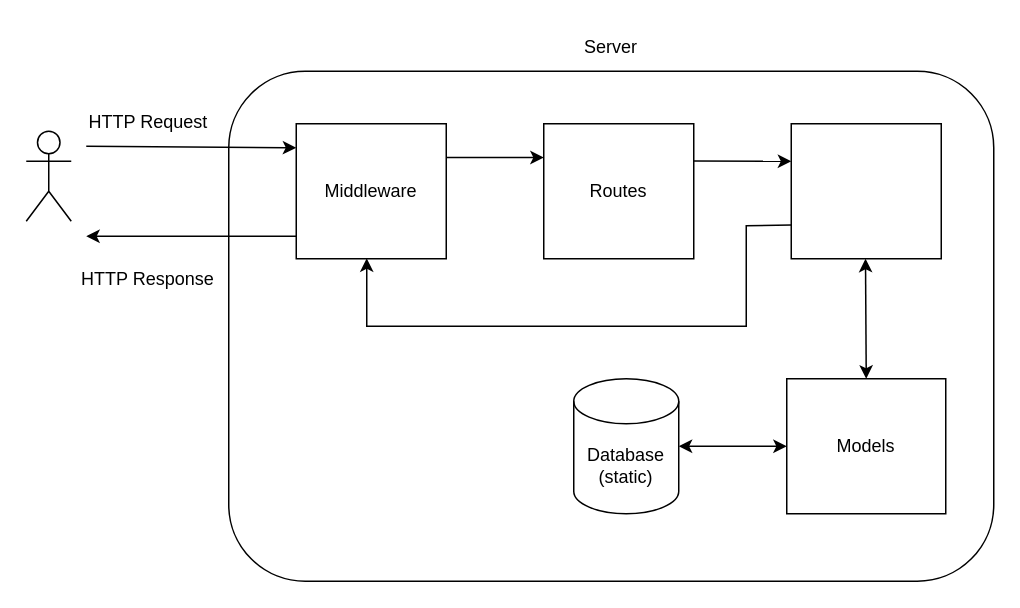
This 1020x608 diagram has some shape labels left out. The centre of each missing label's shape, as x and y in pixels:
Client: [48,175]
Controllers: [865,190]
